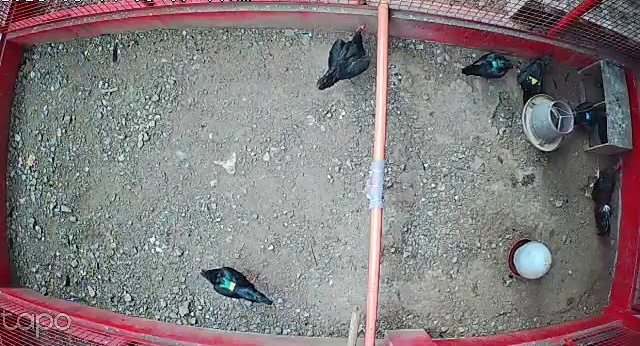Chicken: (315, 21, 373, 94), (506, 45, 562, 111), (195, 265, 274, 307), (458, 47, 519, 86), (566, 96, 613, 129)
Rooster: (583, 157, 626, 237)
Saddle_Color_Blue: (585, 113, 590, 120)
Saddle_Color_Yellow: (526, 77, 544, 86)
Saddle_Color_YellowGreen: (222, 277, 238, 292)
